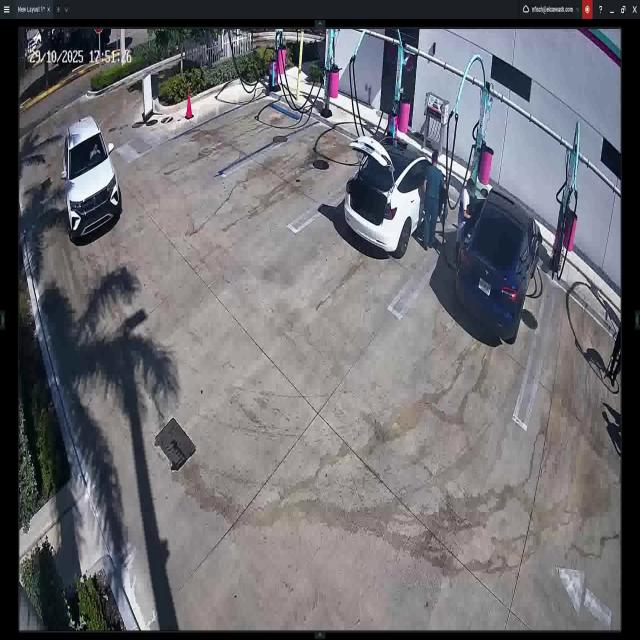Car: (455, 188, 540, 342), (350, 132, 445, 262), (61, 122, 124, 239)
